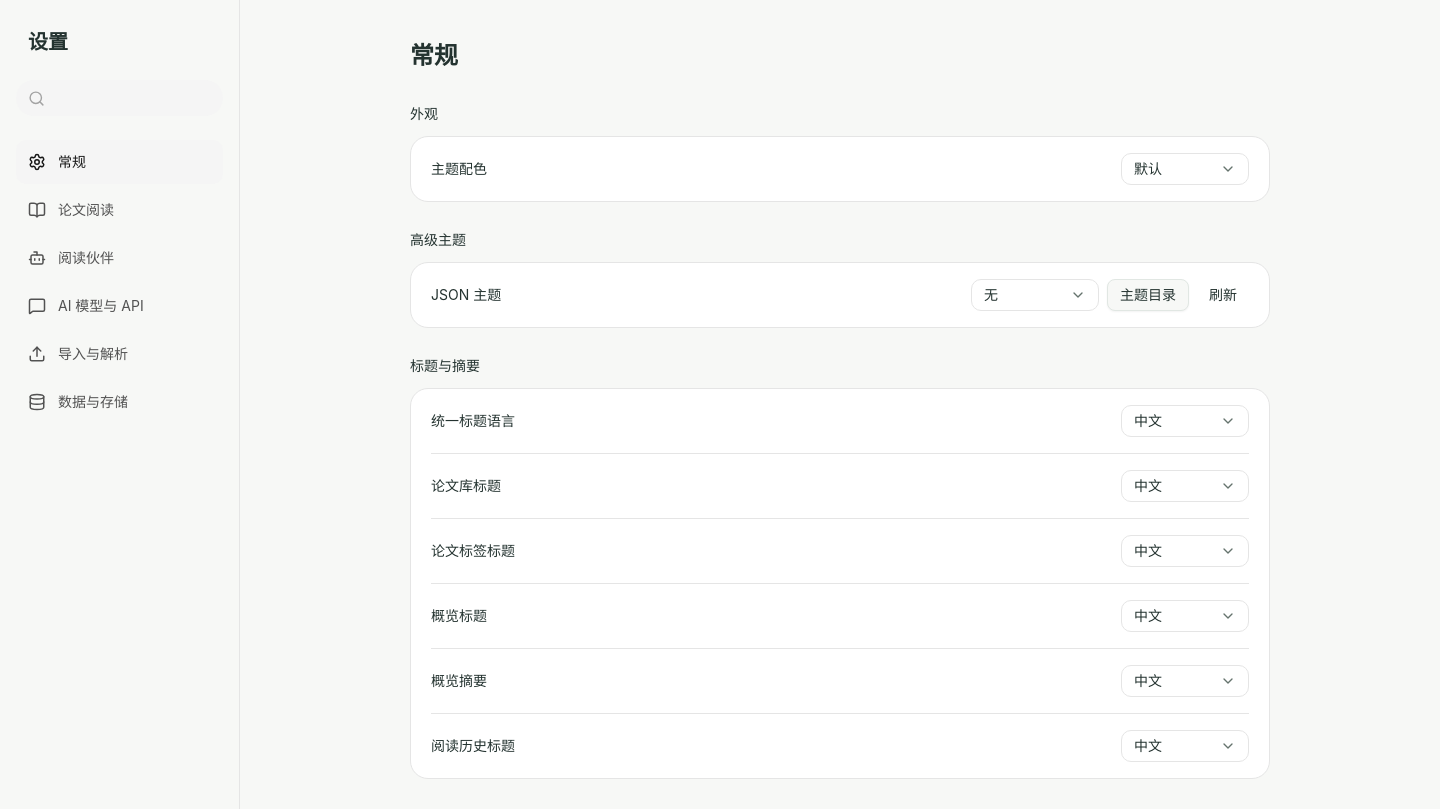
Test: shows format errors from backup validation
Expected: the dropdown named "统一标题语言" is shown, 1121,405 -> 1249,437
Click the button "数据与存储" at (120, 402), box 16,380 -> 223,424
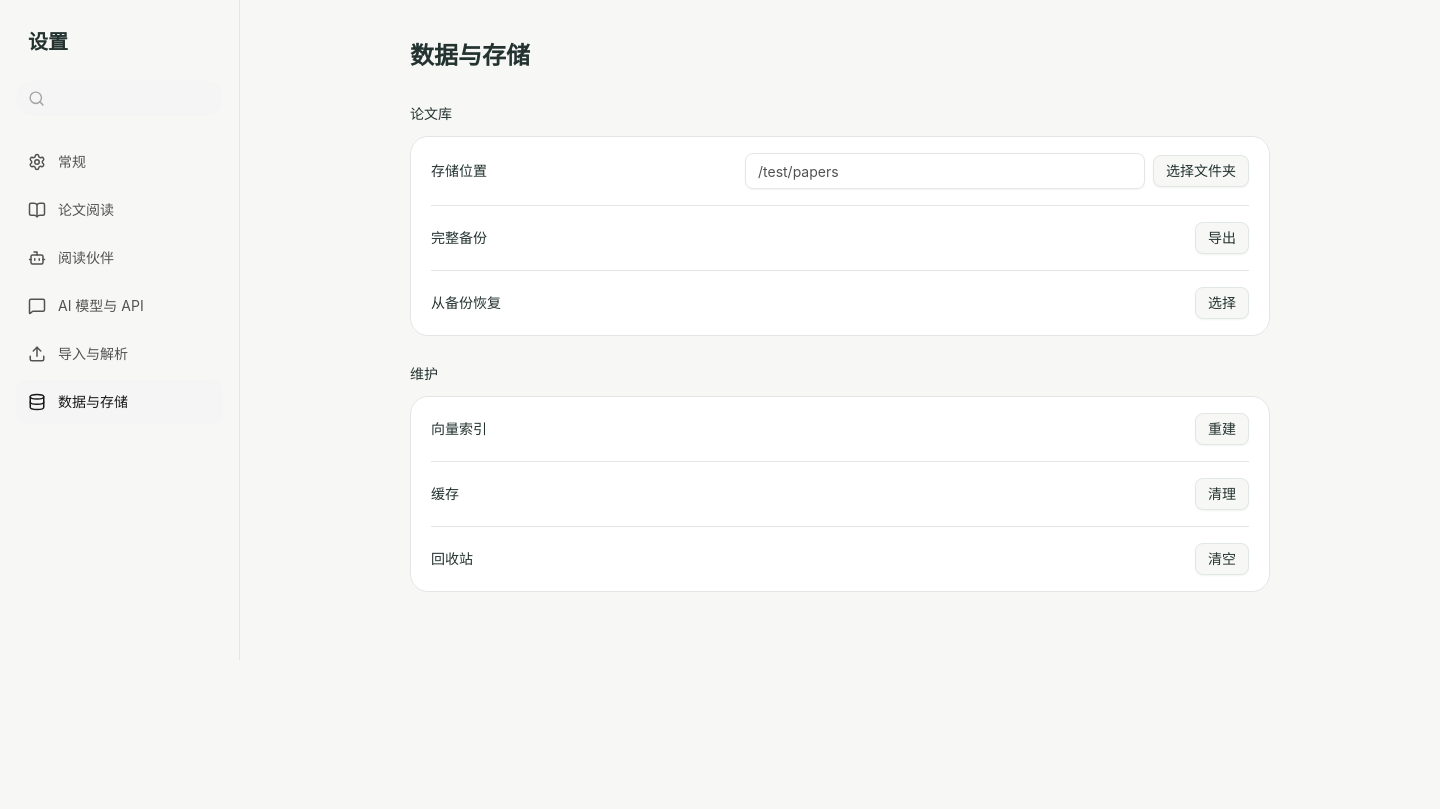
Click the button "选择" at (1222, 303), box 1195,287 -> 1249,319
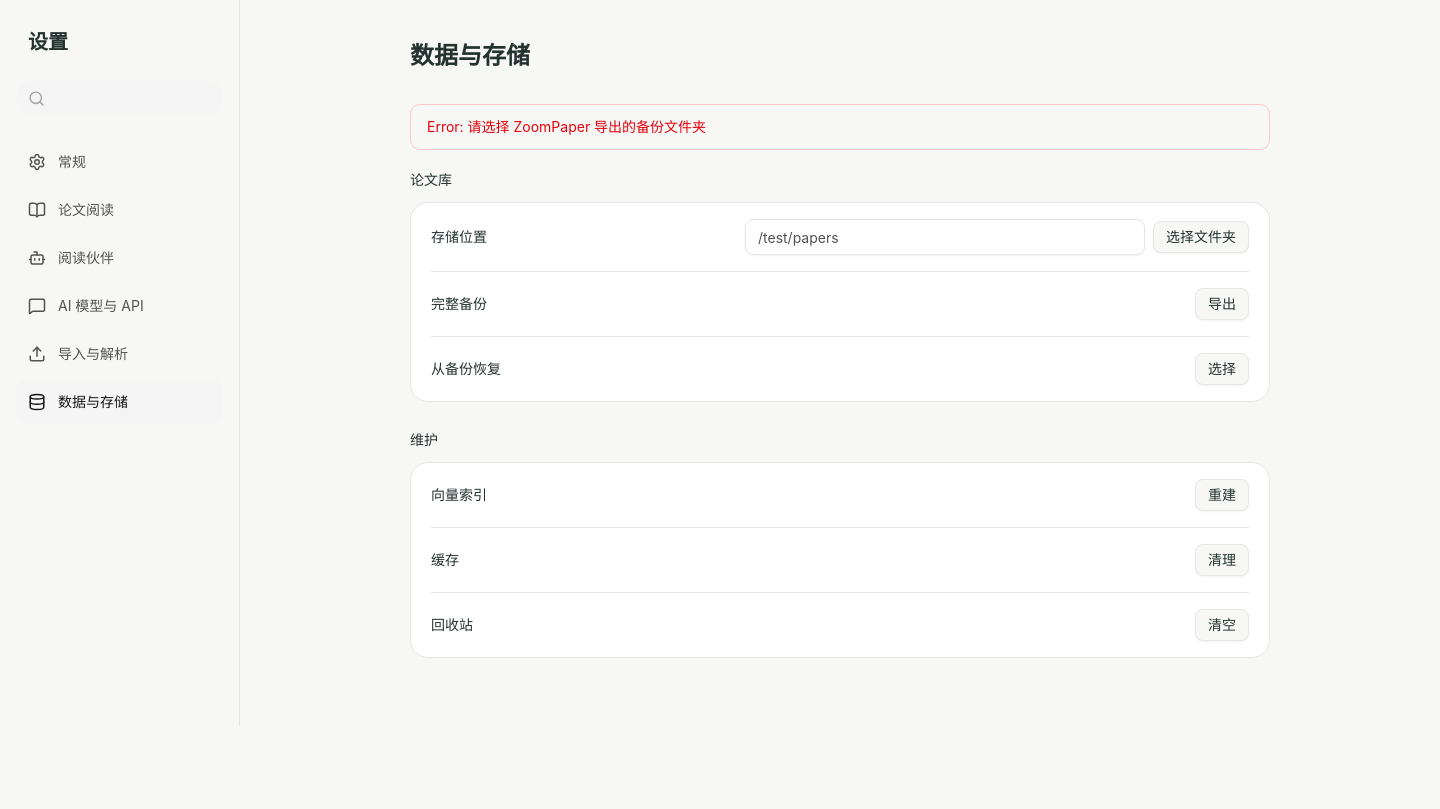
Now the message shows "备份文件夹", box 427,118 -> 706,135
